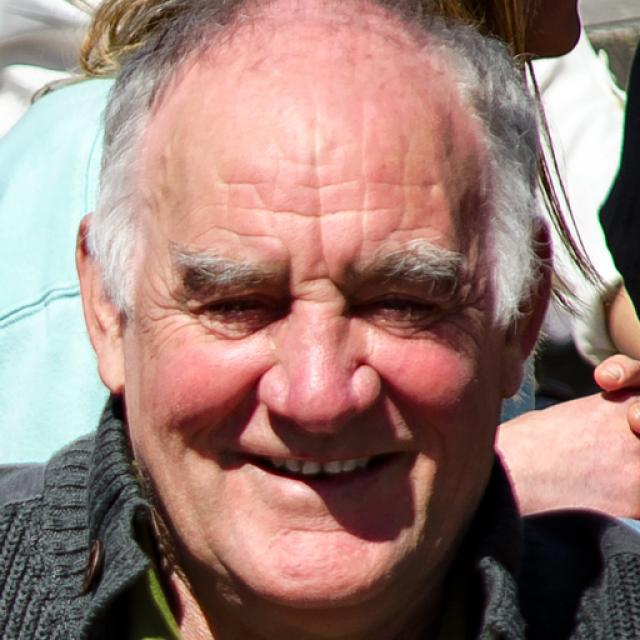Wrinkle: (207, 198, 402, 221), (187, 218, 271, 247), (378, 217, 457, 241)
